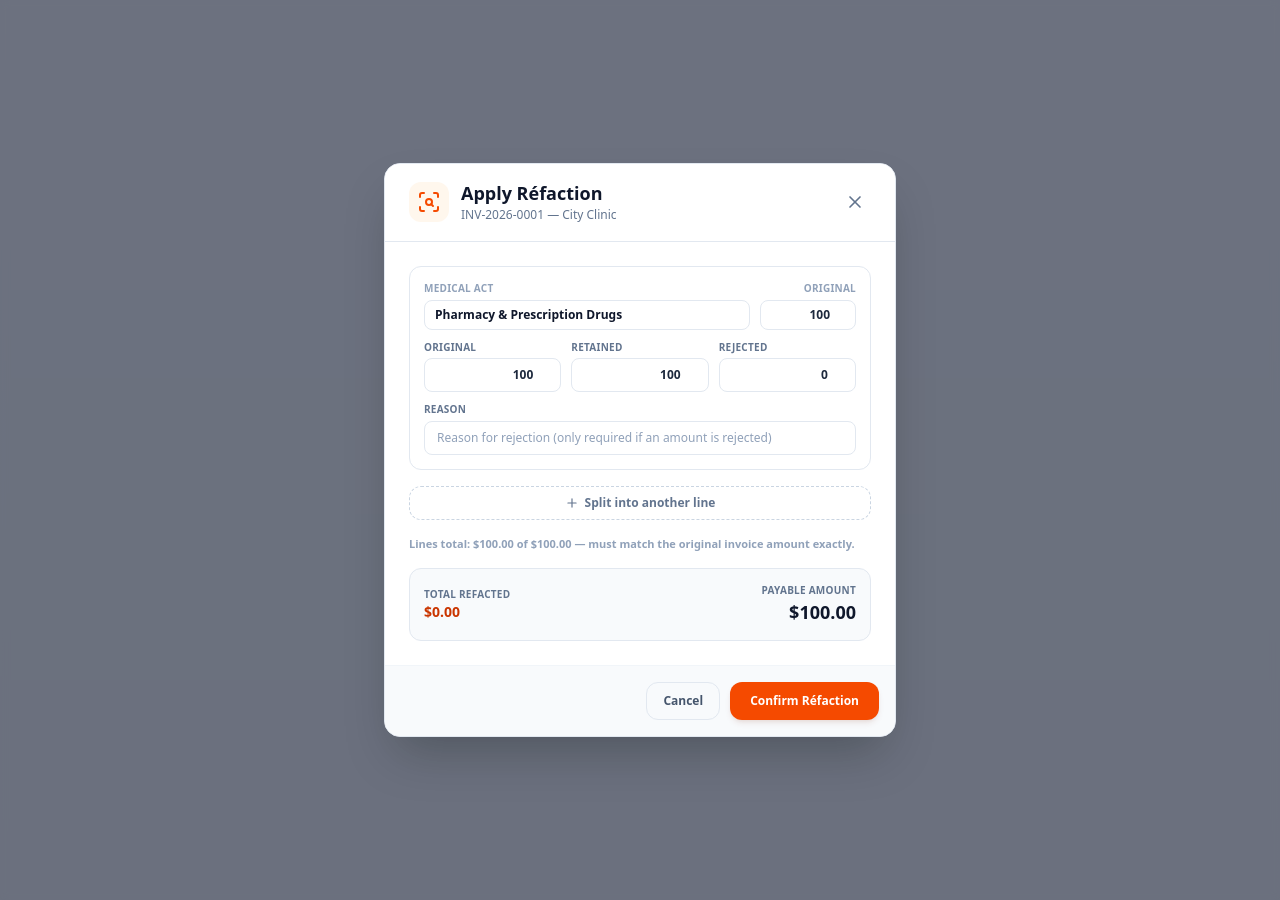
it: ApplyRefactionModal — react-hook-form + zod › exige un motif quand une ligne est réduite
This screenshot has width=1280, height=900.
Replace the text in the number field below "Retained" with "60": (640, 374) x1=571 y1=358 x2=709 y2=392
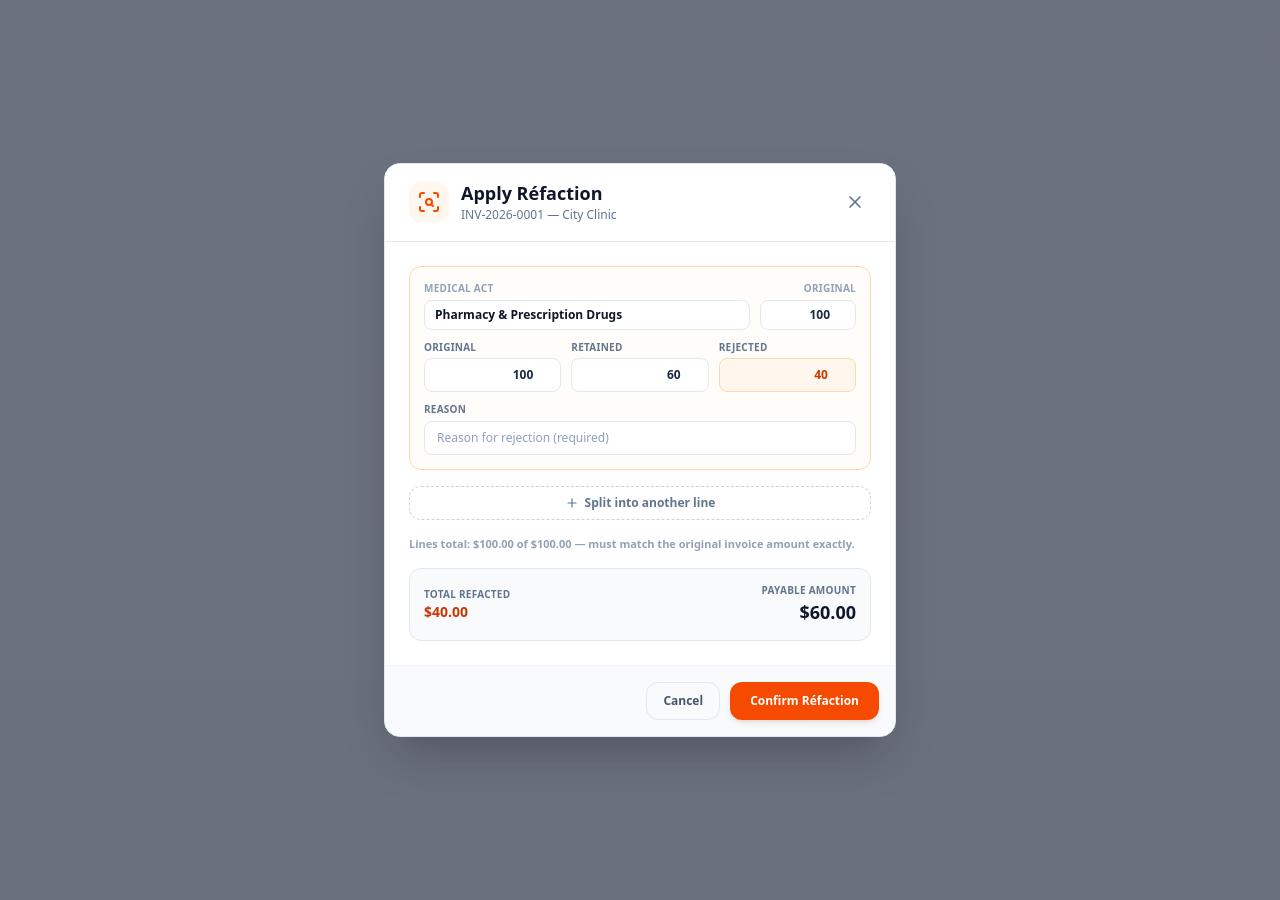
Click the button "Confirm Réfaction": (805, 701) x1=730 y1=682 x2=879 y2=720
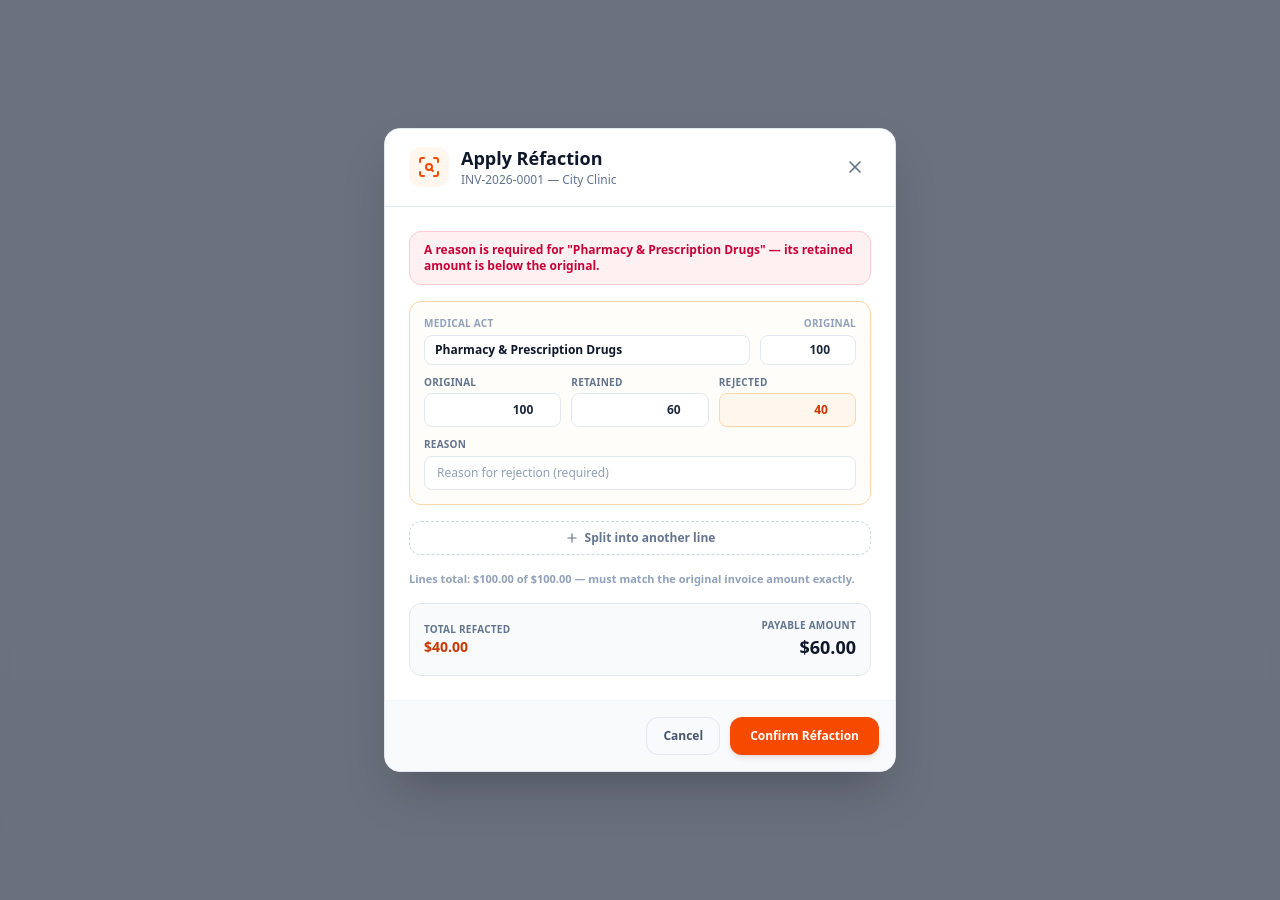
Check: the text "A reason is required for \"Pharmacy & Prescription Drugs\" — its retained amount is below the original." is shown, box x1=424 y1=240 x2=853 y2=274
